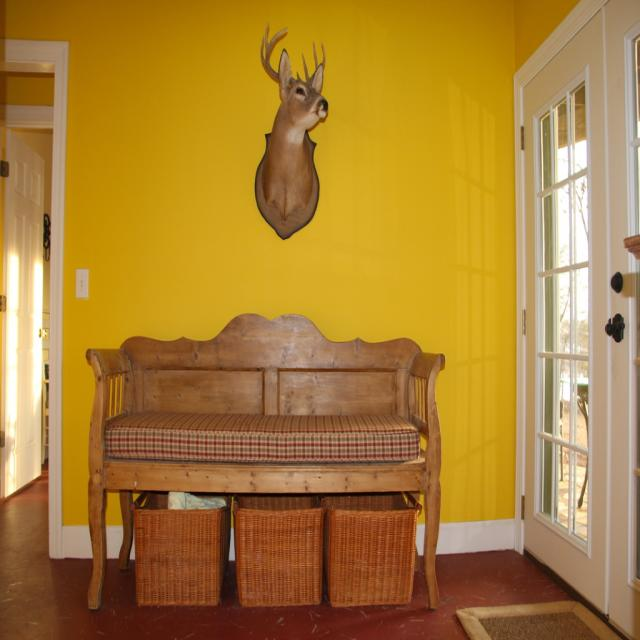Deer: (254, 21, 328, 240)
